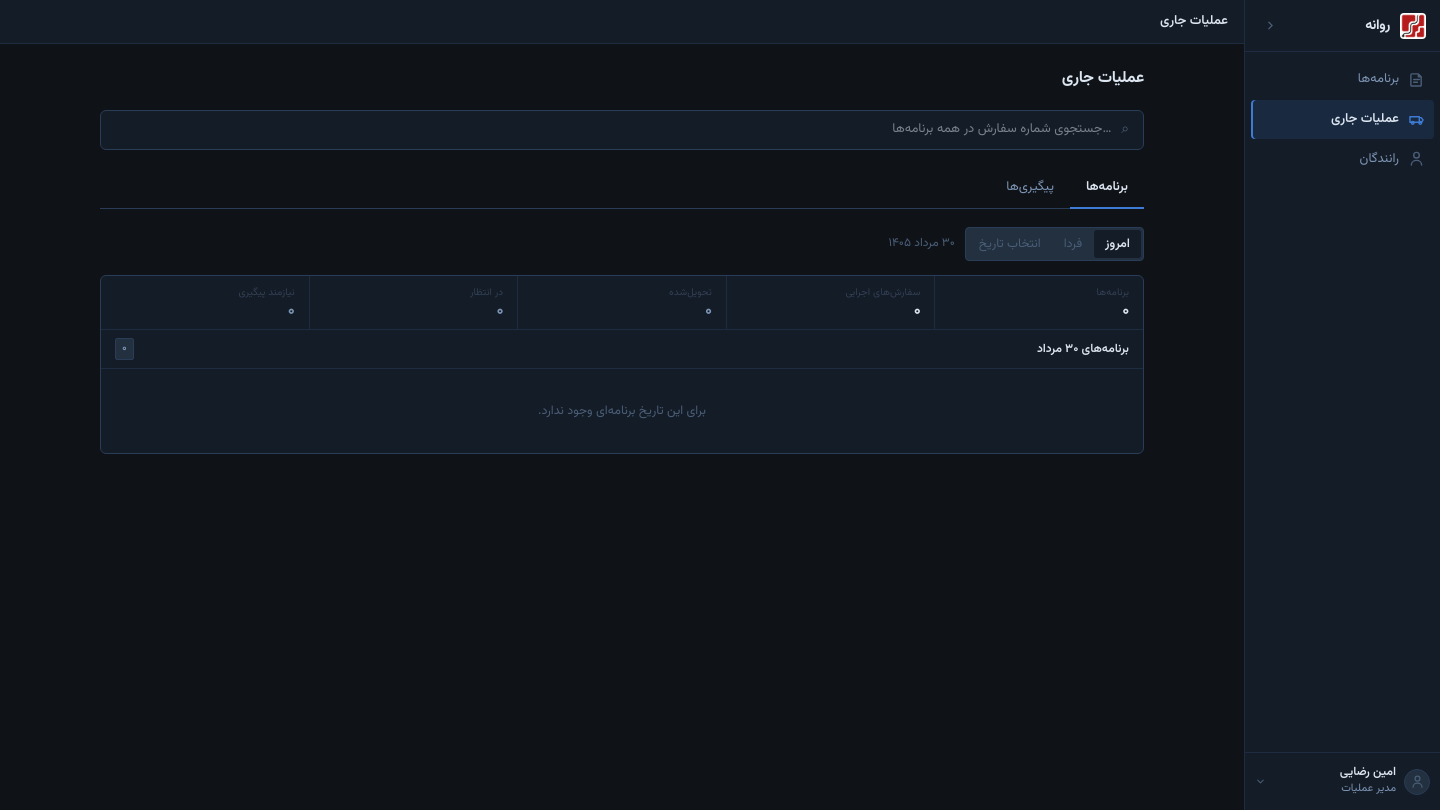
A05 Follow-up backlog › empty state when no follow-ups
Click the tab with test id "ops-tab-followups". click: (1030, 188)
box: [990,168,1070,209]
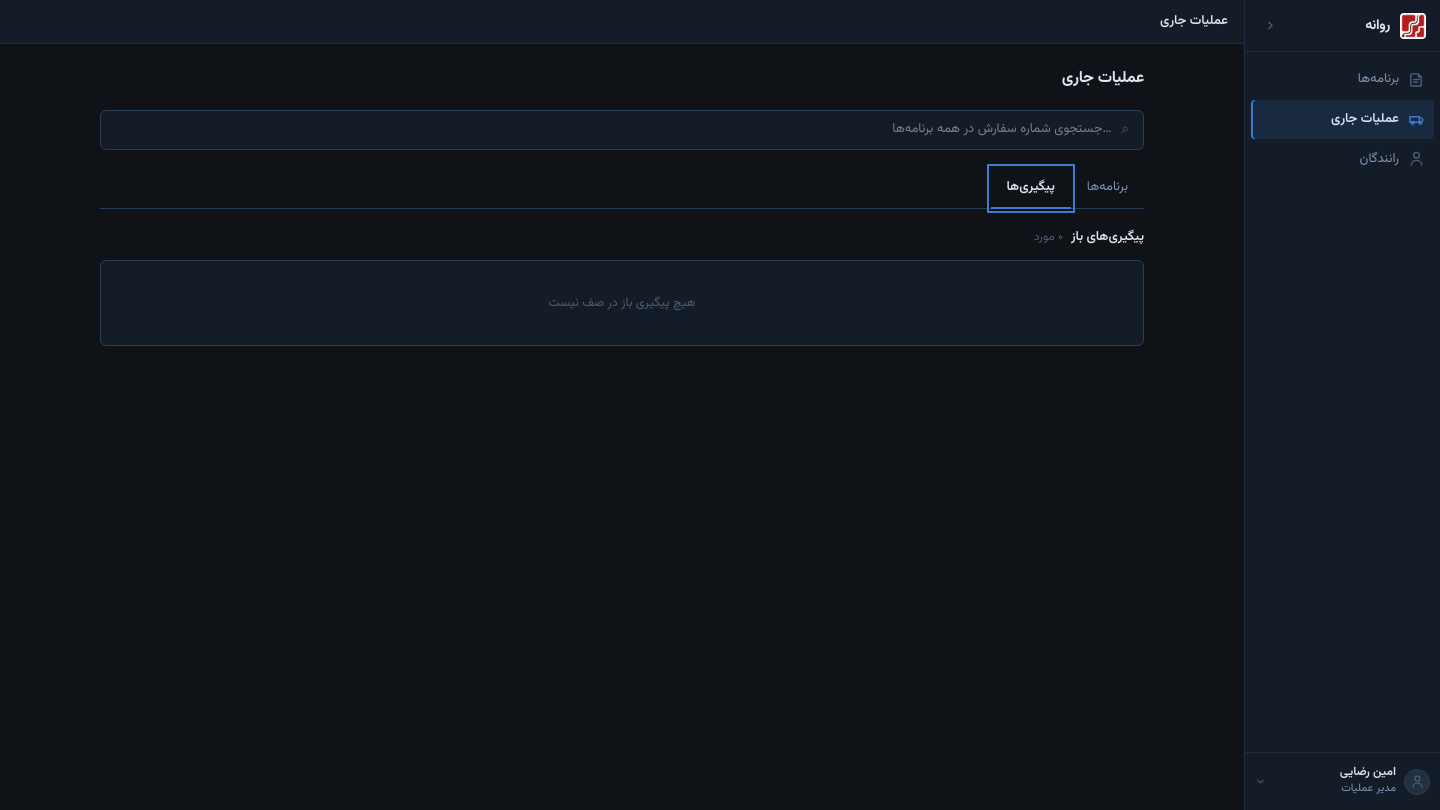
Expected: the text "هیچ پیگیری باز در صف نیست" is shown, [548,293,696,313]
